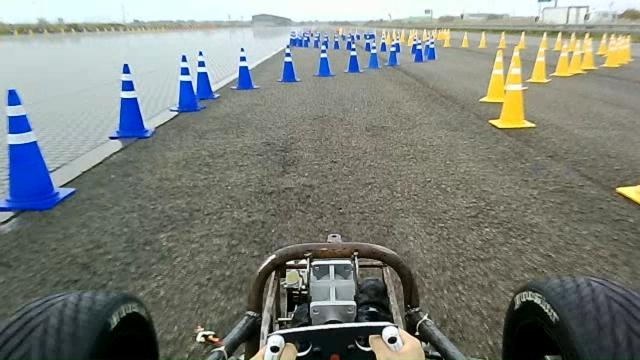blue cone: (0, 88, 76, 212), (109, 63, 154, 139), (169, 54, 206, 112), (230, 47, 260, 90), (195, 50, 220, 100), (275, 44, 301, 83), (313, 40, 335, 77), (342, 40, 364, 74), (365, 39, 381, 69), (385, 39, 399, 66), (413, 38, 425, 62), (426, 38, 436, 60)
yellow cone: (488, 56, 536, 129), (478, 46, 509, 103), (504, 43, 528, 91), (525, 47, 551, 83), (549, 42, 573, 76)
